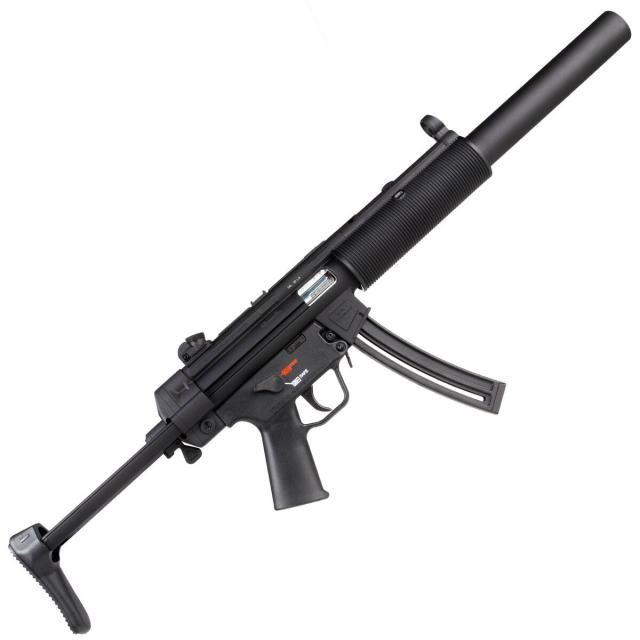SMG: (8, 12, 633, 636)
